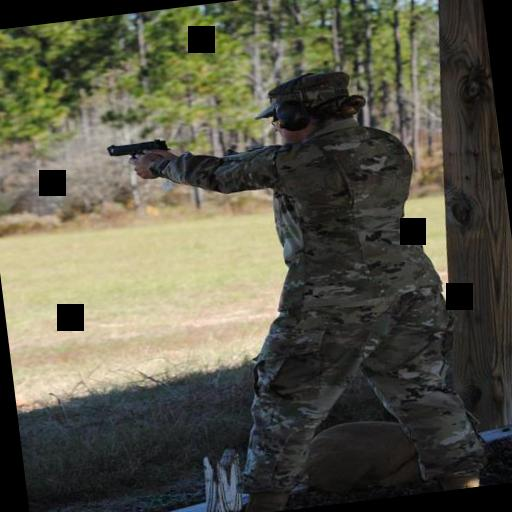Handgun: (98, 134, 172, 167)
